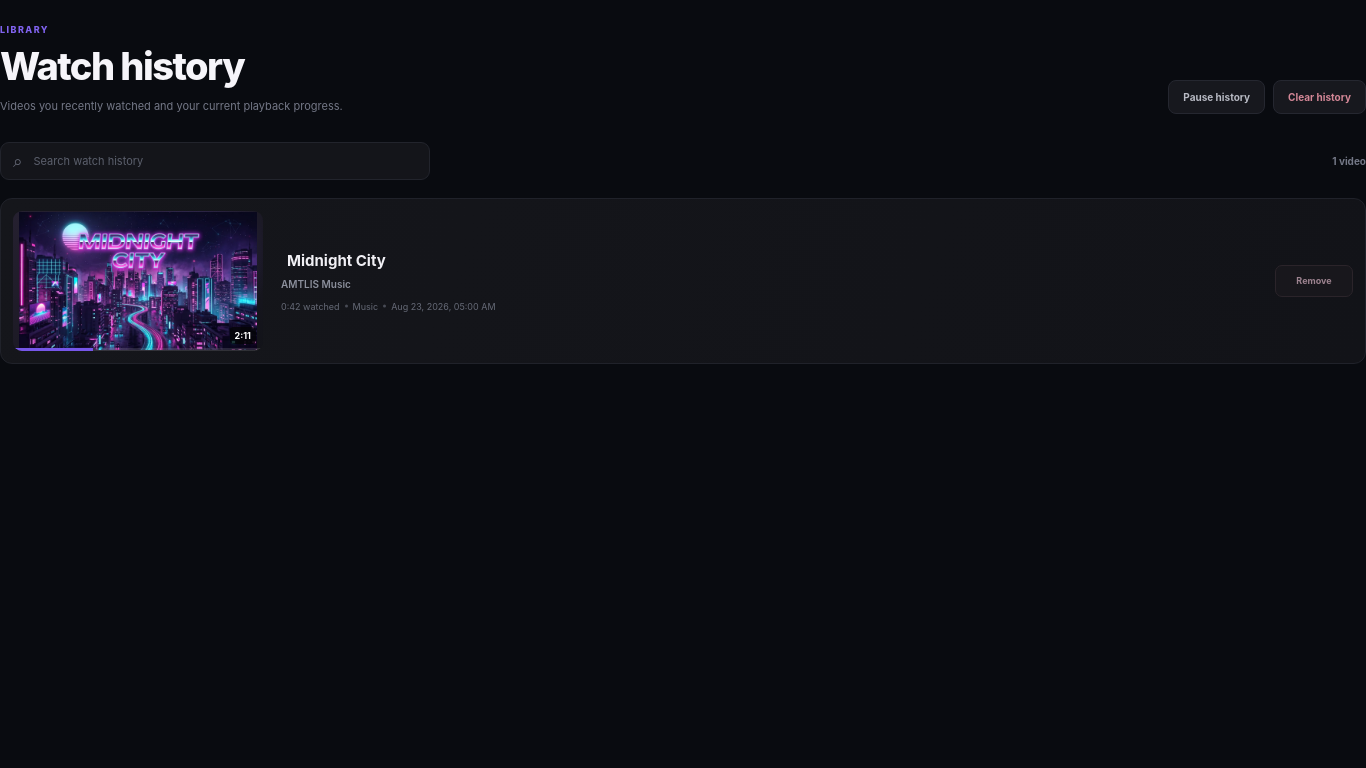
Test case: HistoryPage › renders history data and opens the custom clear confirmation modal
Expected: the button "Midnight City" is shown, [281,250,392,271]
Expected: the text "0:42 watched" is shown, [281,301,340,312]
What coordinates should you click on to do the following:
click the button "Clear history"
I would click on:
 (1320, 97)
Its box is [1273,80,1365,114].
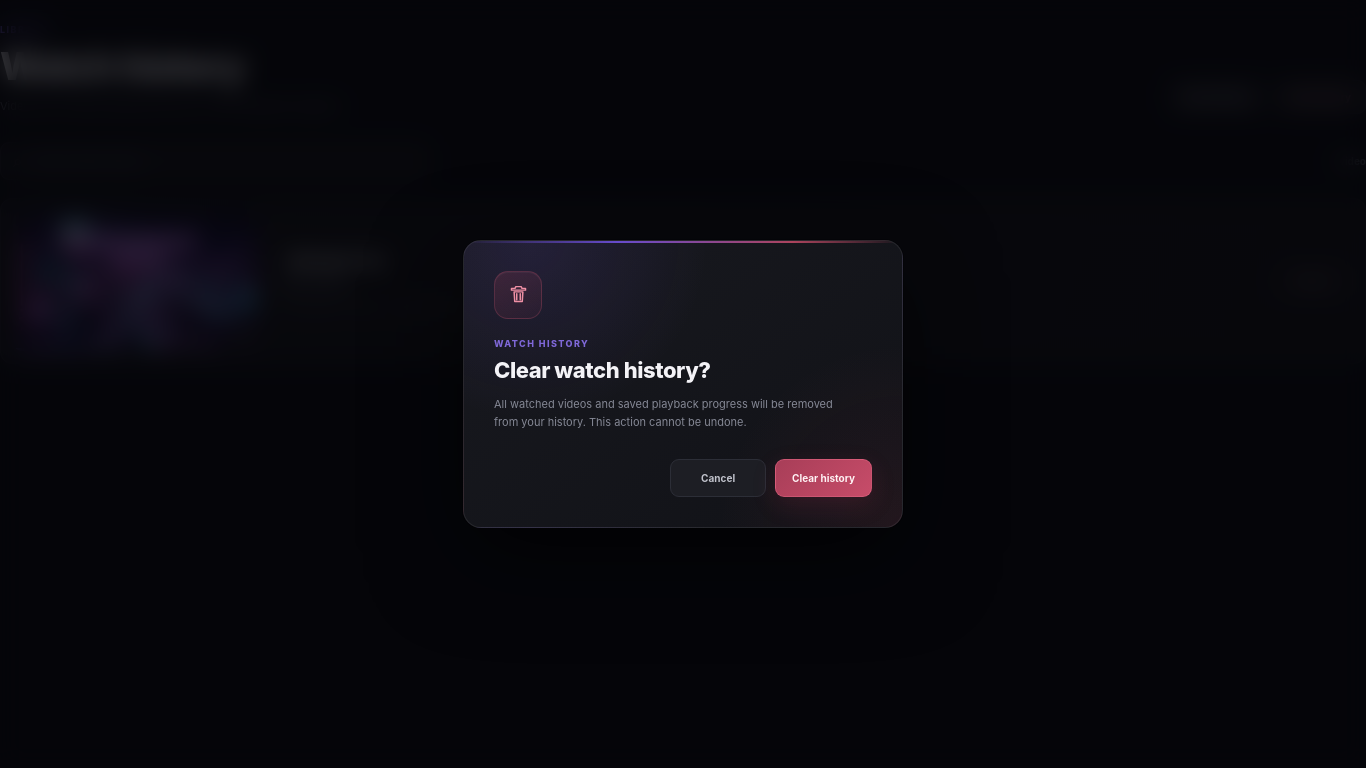
Now the dialog is shown, box [463,240,903,528]
Now the heading "Clear watch history?" is shown, box [494,357,711,383]
What coordinates should you click on to do the following:
click the button "Cancel"
I would click on:
 (718, 478)
Its box is [670,459,766,497].
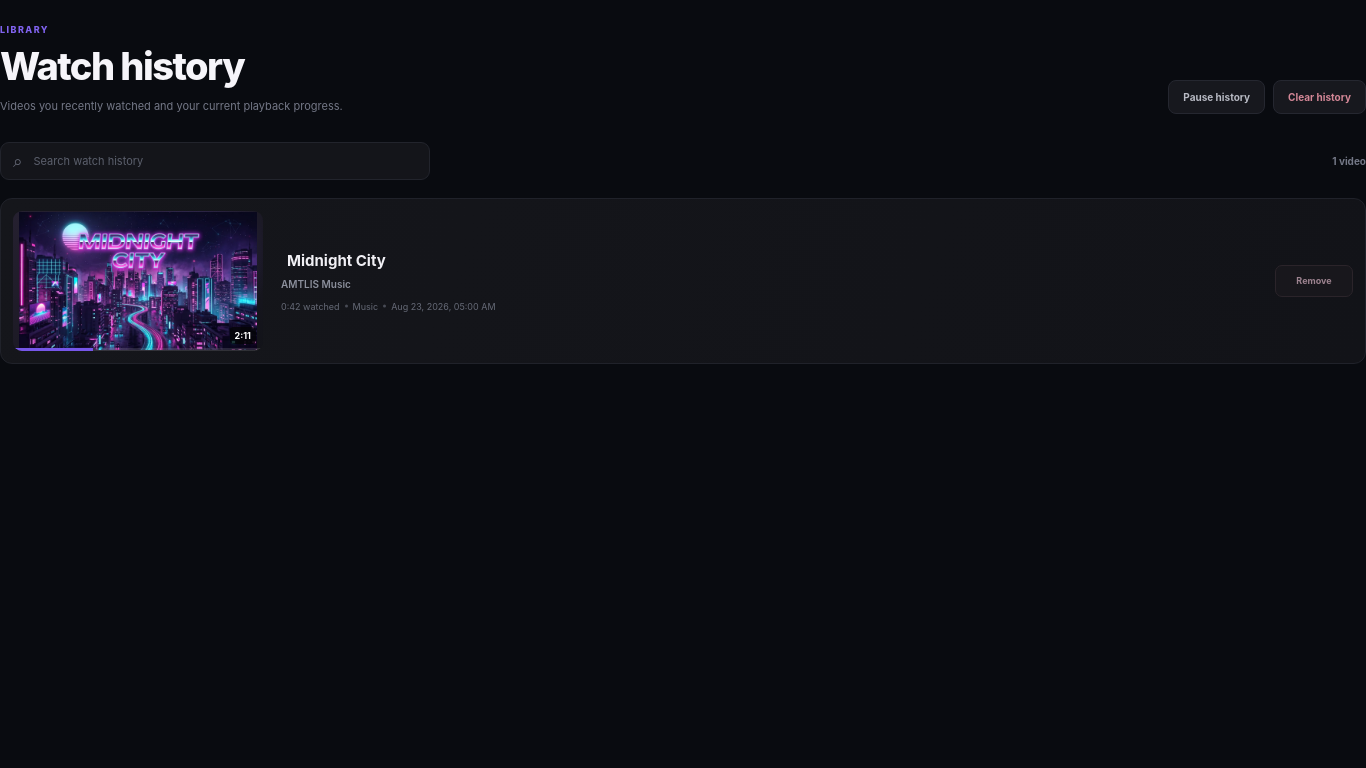
Now the dialog is gone
